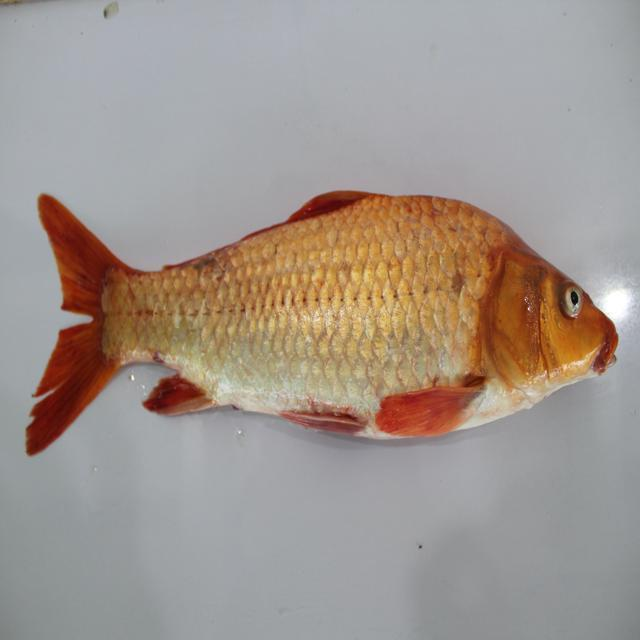Gold-Fish: (0, 129, 603, 508)
